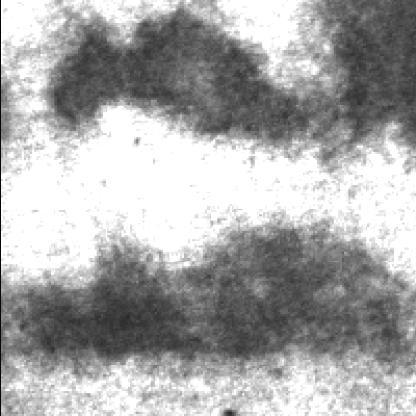patches: (14, 218, 406, 366), (36, 6, 302, 150), (308, 0, 414, 152)
